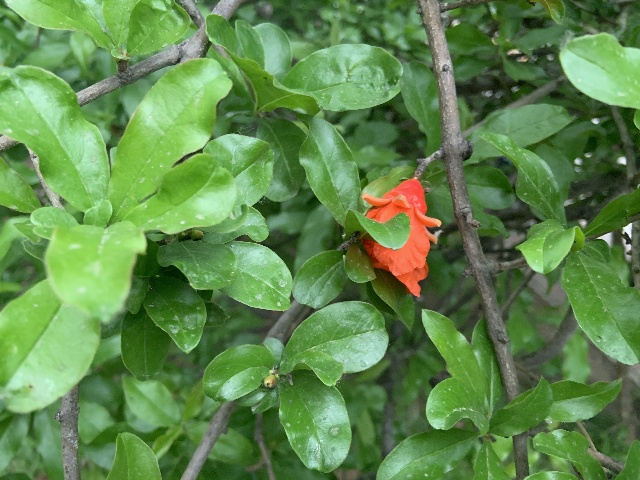flower: (359, 177, 441, 296)
